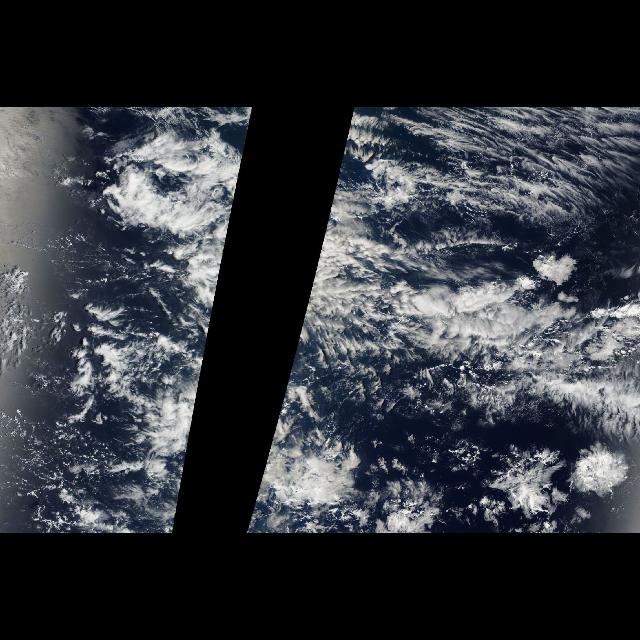Fish: (268, 122, 636, 440), (101, 122, 251, 440)
Flower: (502, 443, 630, 533)
